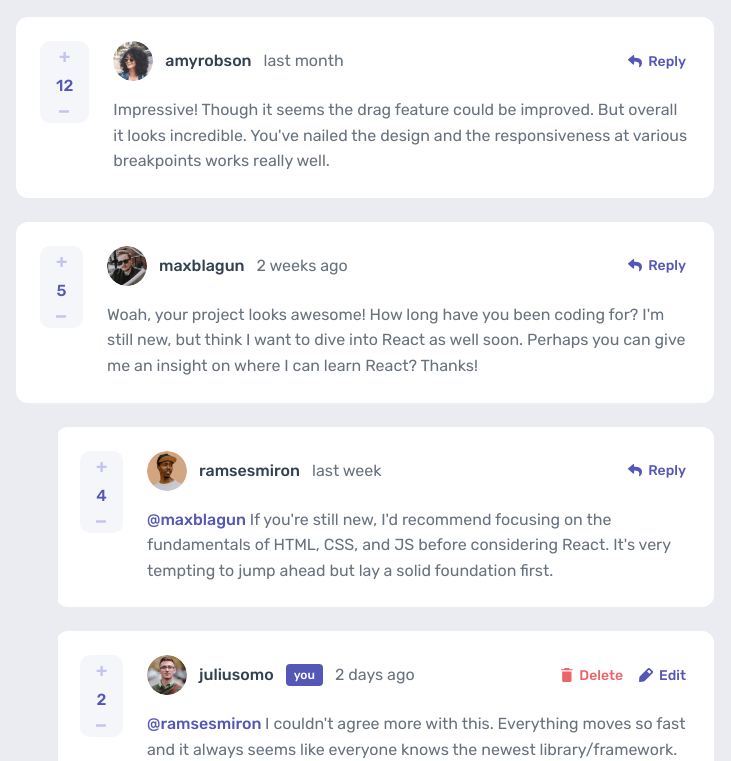
it: App integration › clicking Edit replaces content with textarea
Click the button "Edit": point(663, 675) [635, 661, 690, 690]
(page scrolled)
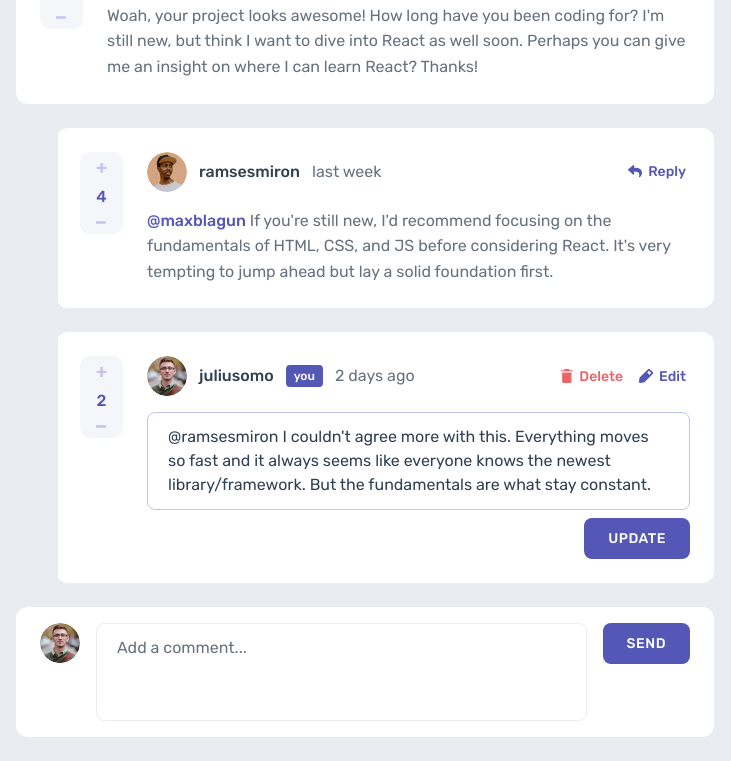
expect the button "UPDATE" is shown: met, box [584, 518, 690, 559]
expect the 1st text box is shown: met, box [147, 412, 690, 510]
